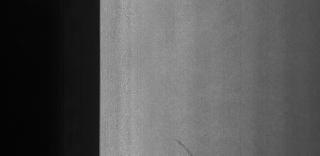water spot: (172, 134, 194, 156)
